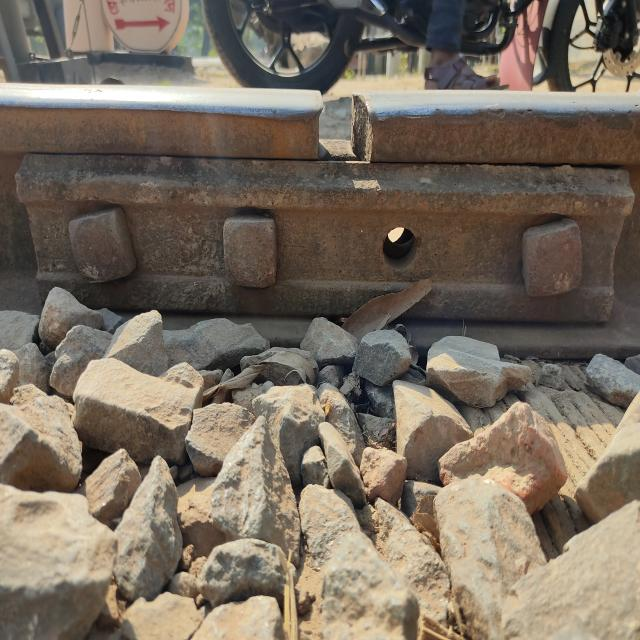defective: (147, 29, 520, 315)
